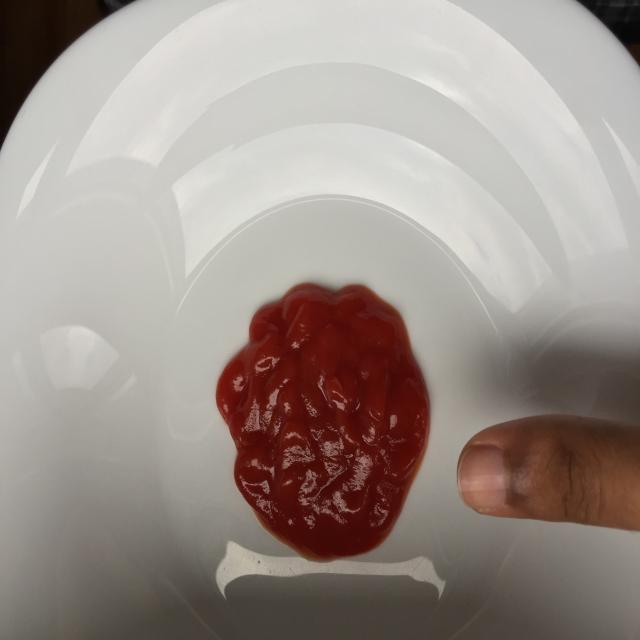sauce: (214, 280, 432, 562)
